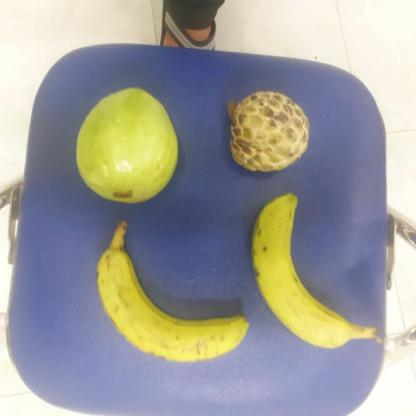annona: (225, 90, 310, 173)
banana: (95, 252, 248, 366), (252, 195, 358, 352)
guava: (73, 86, 181, 206)
